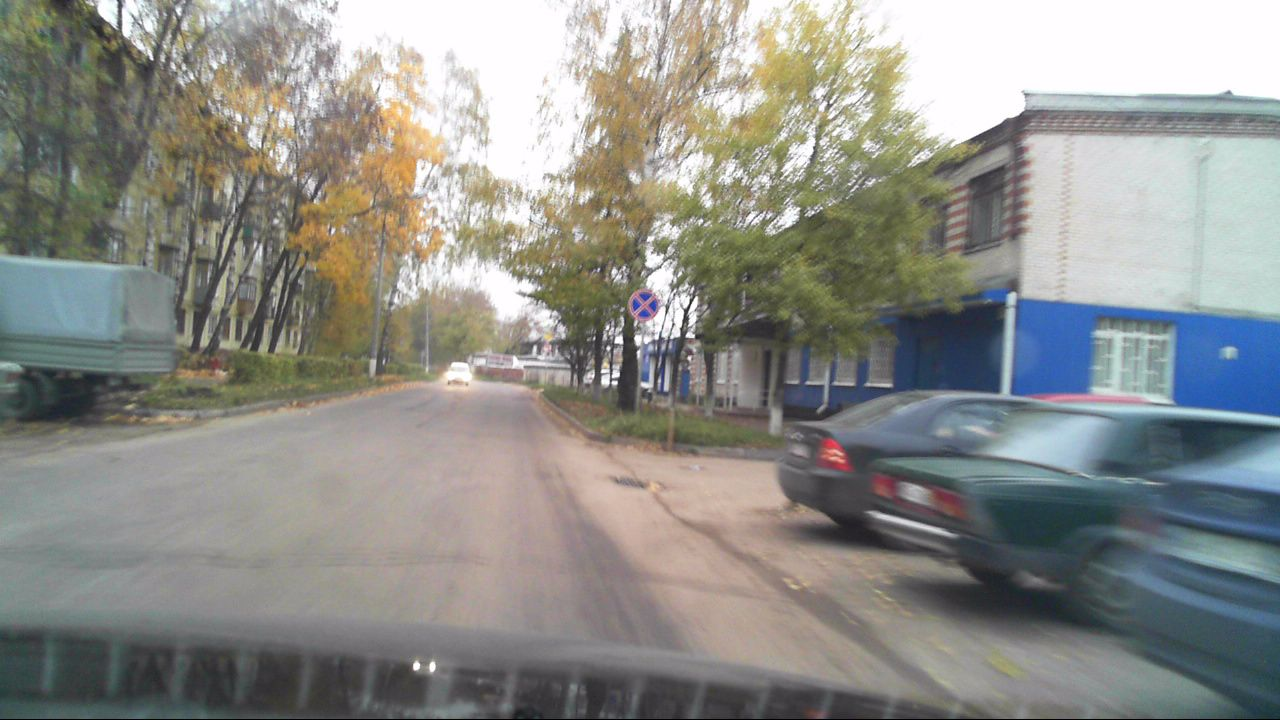No Parking: (627, 289, 660, 321)
